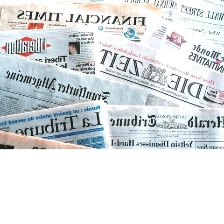news_paper: (72, 19, 224, 108), (0, 51, 150, 121), (0, 1, 164, 49), (0, 94, 114, 151), (93, 0, 224, 48), (95, 101, 224, 149), (0, 22, 102, 79), (134, 11, 224, 75), (0, 124, 105, 149)
